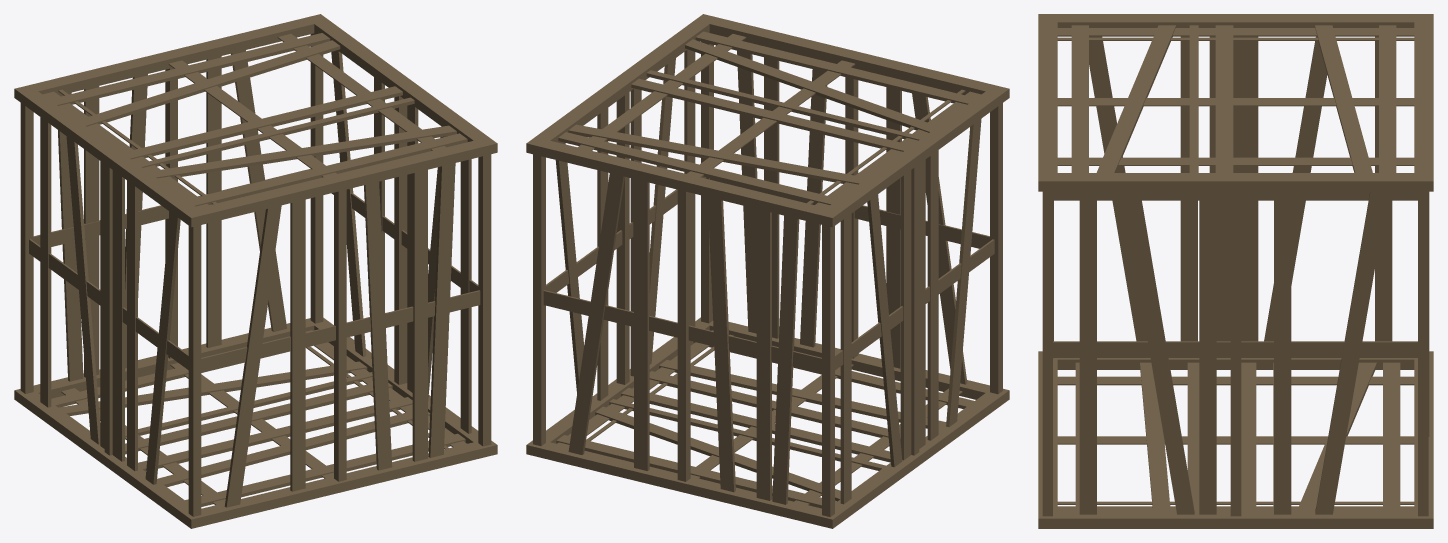
The model's file is Scaffolding.fbx.
The picture shows the model from 3 angles, left to right: view 1: azimuth 30°, elevation 25°; view 2: azimuth 150°, elevation 25°; view 3: azimuth 270°, elevation 25°; orthographic projection. The views are drawn at different scales.
Parts seen in each view (by area): view 1: BoxScaffolding_v1; view 2: BoxScaffolding_v1; view 3: BoxScaffolding_v1.
Part boxes in pixels (x1,y1,x2,y2): BoxScaffolding_v1: [14, 14, 497, 528]; BoxScaffolding_v1: [526, 14, 1009, 528]; BoxScaffolding_v1: [1038, 14, 1433, 528].
Size of the model in its own units: 7.16 by 6.95 by 7.16.
